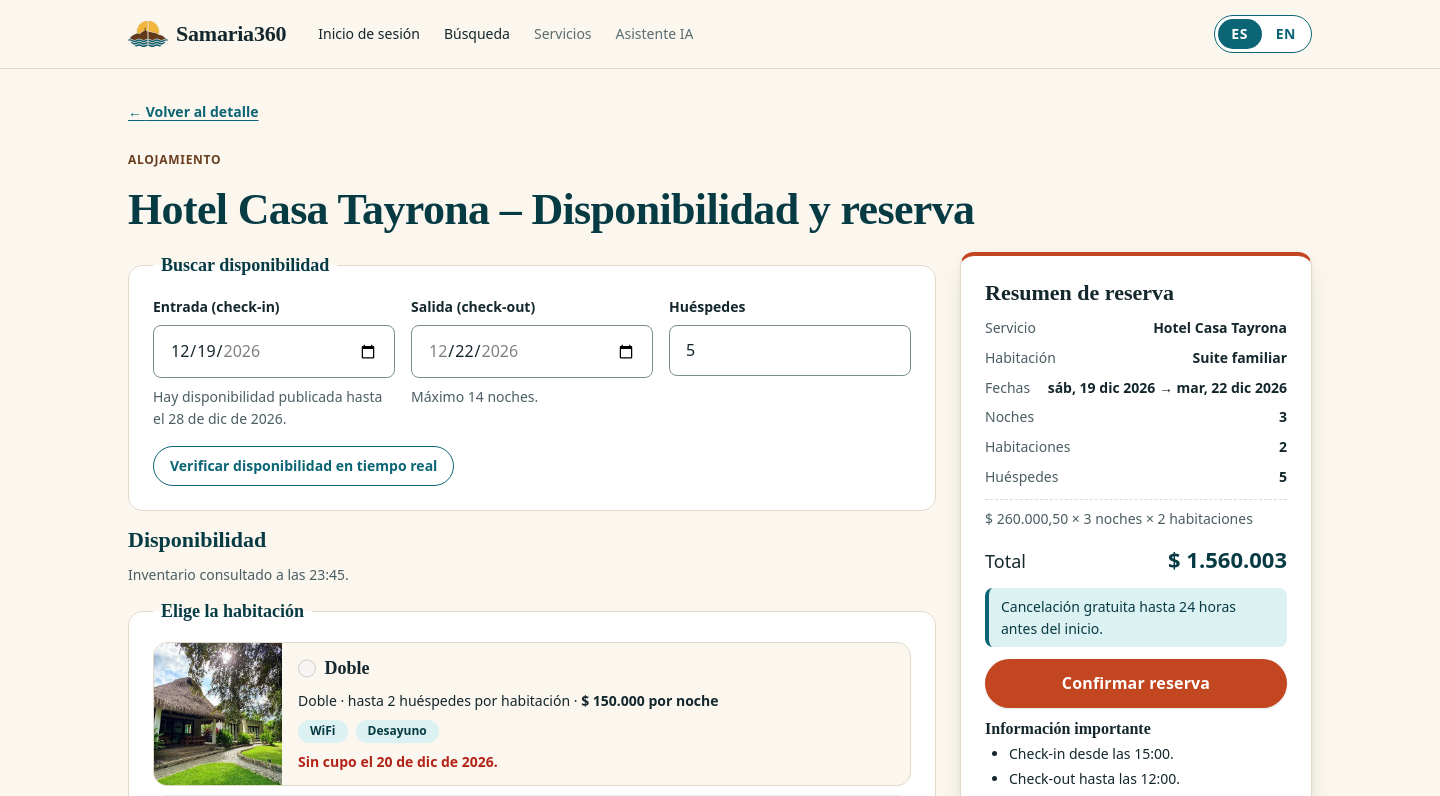
Test: WF-10, confirmar (RF20) con Idempotency-Key › sin sesión, «Confirmar» lleva al login y vuelve a WF-10 con la misma selección
The image size is (1440, 796).
Click the button "Confirmar reserva" at (1136, 684), box [985,660,1287,708]
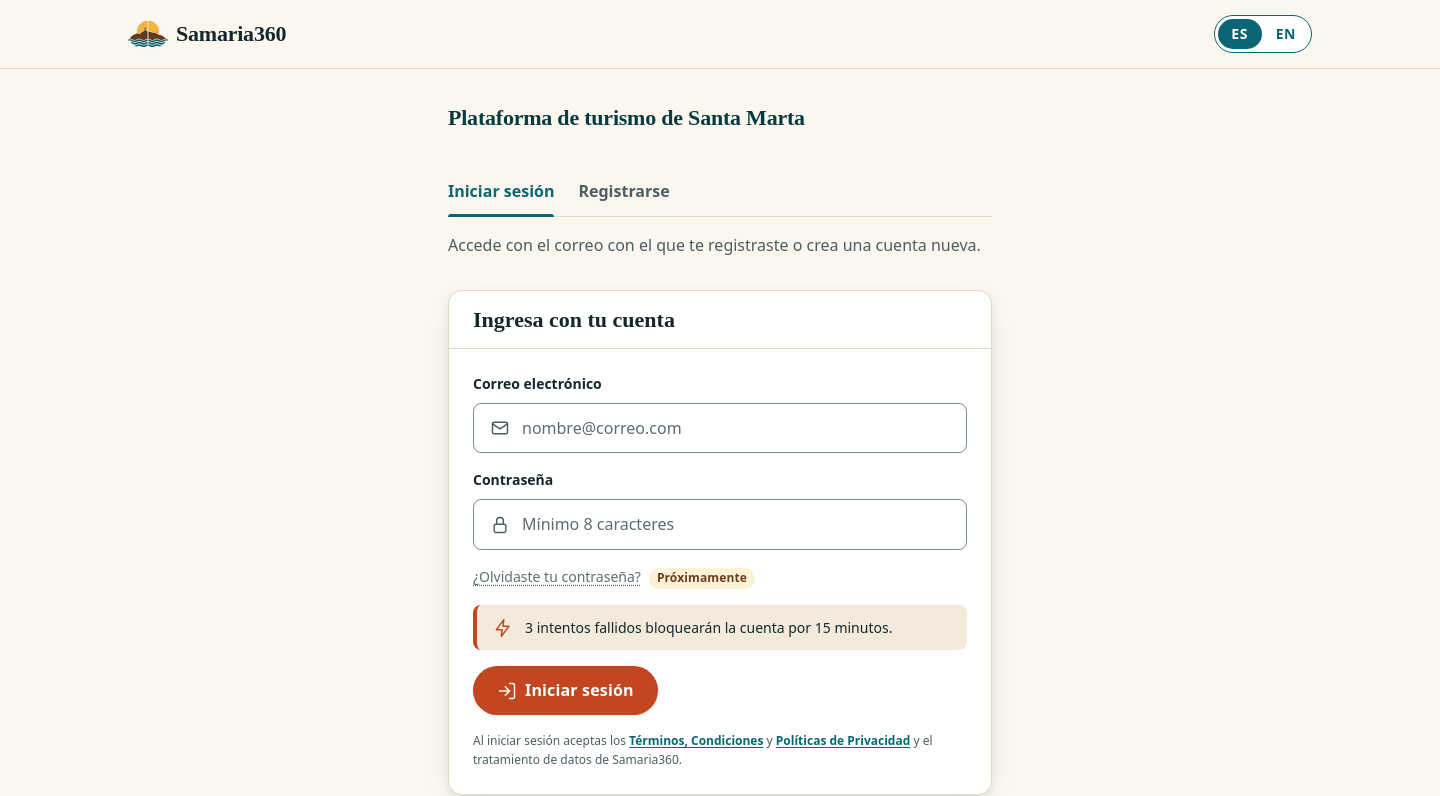
Type "turista@samaria360.test" into the field labelled "Correo electrónico" at (736, 428), box [522,404,950,452]
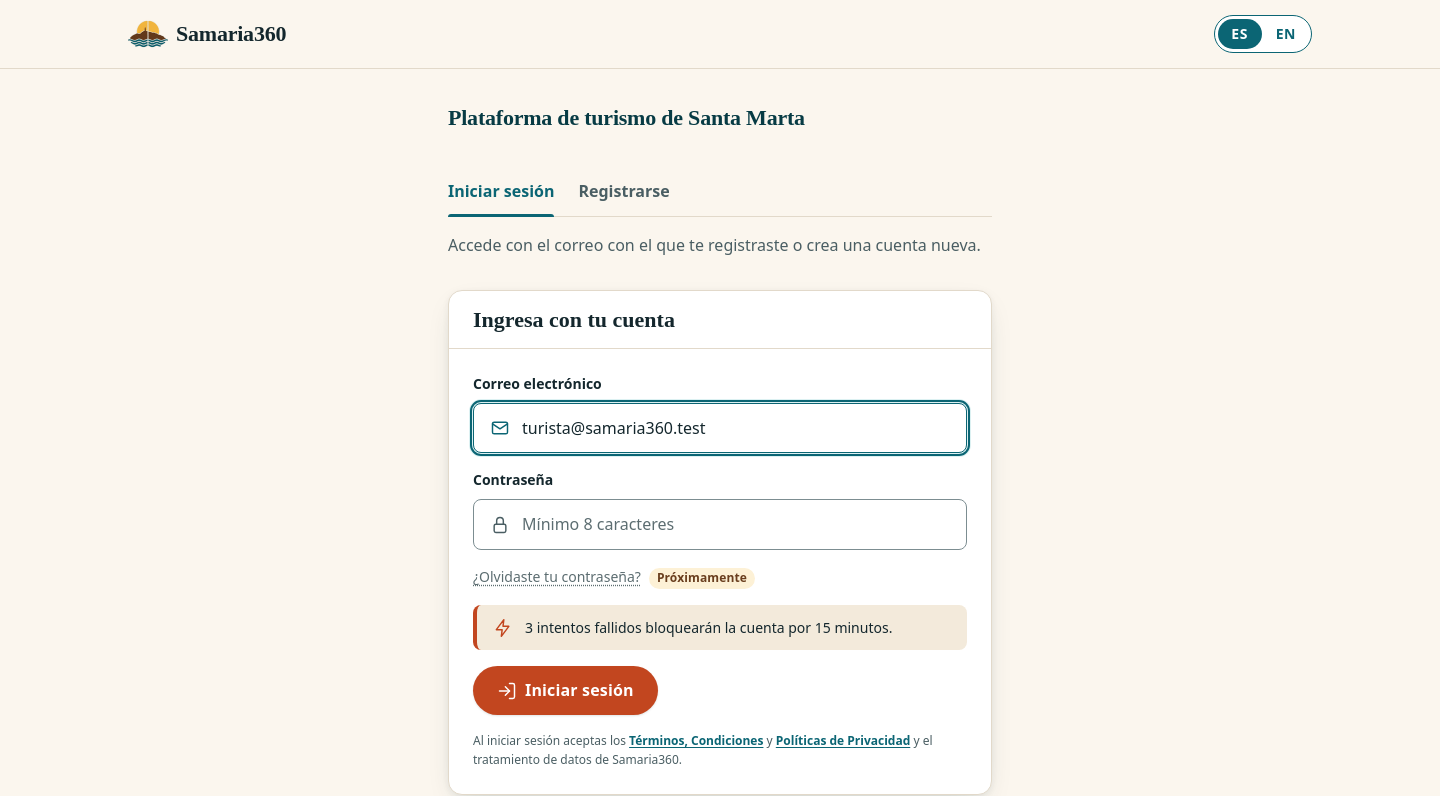
Type "Samaria360*" into the password field labelled "Contraseña" at (736, 525), box [522,500,950,549]
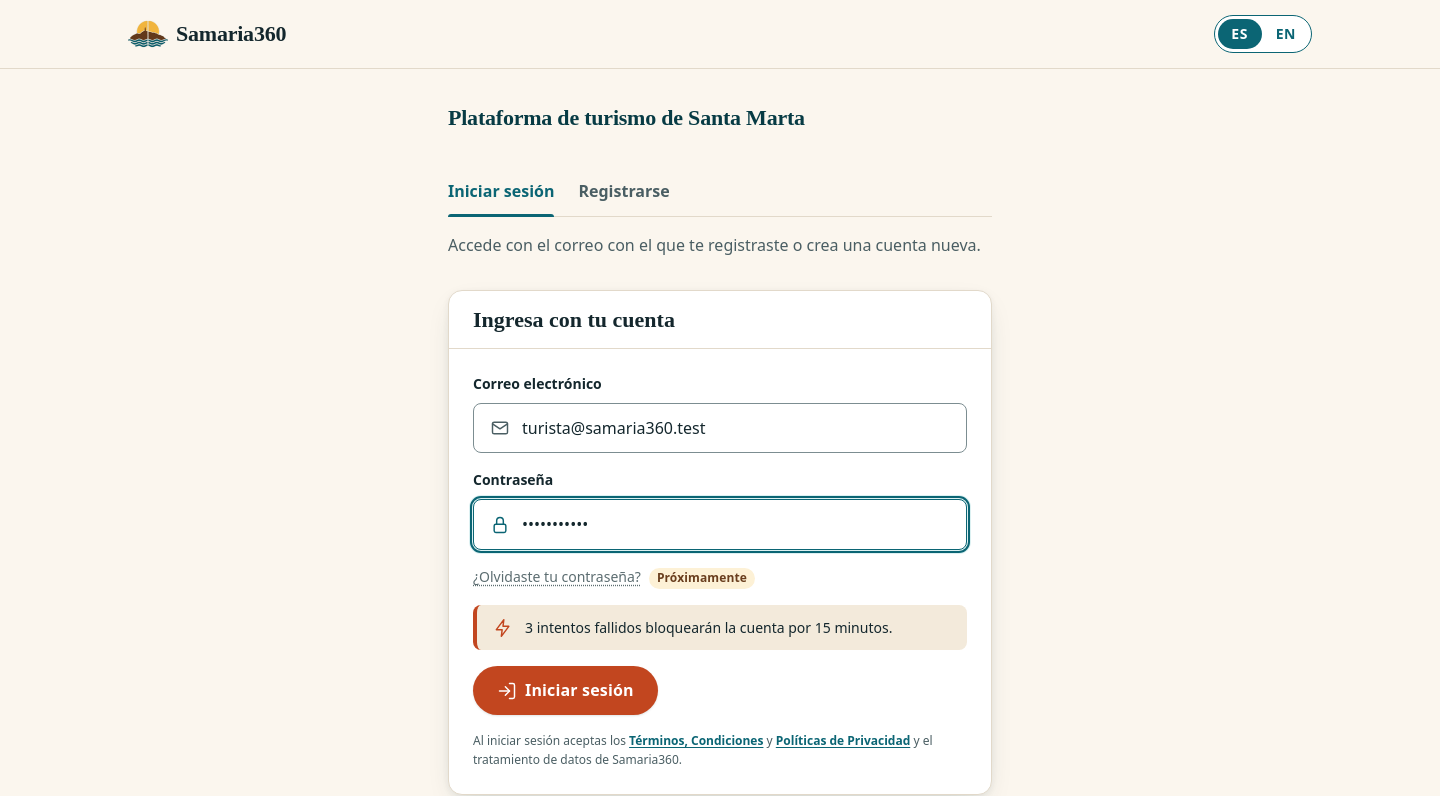
Click the button "Iniciar sesión" at (565, 691), box [473,666,658,715]
(page scrolled)
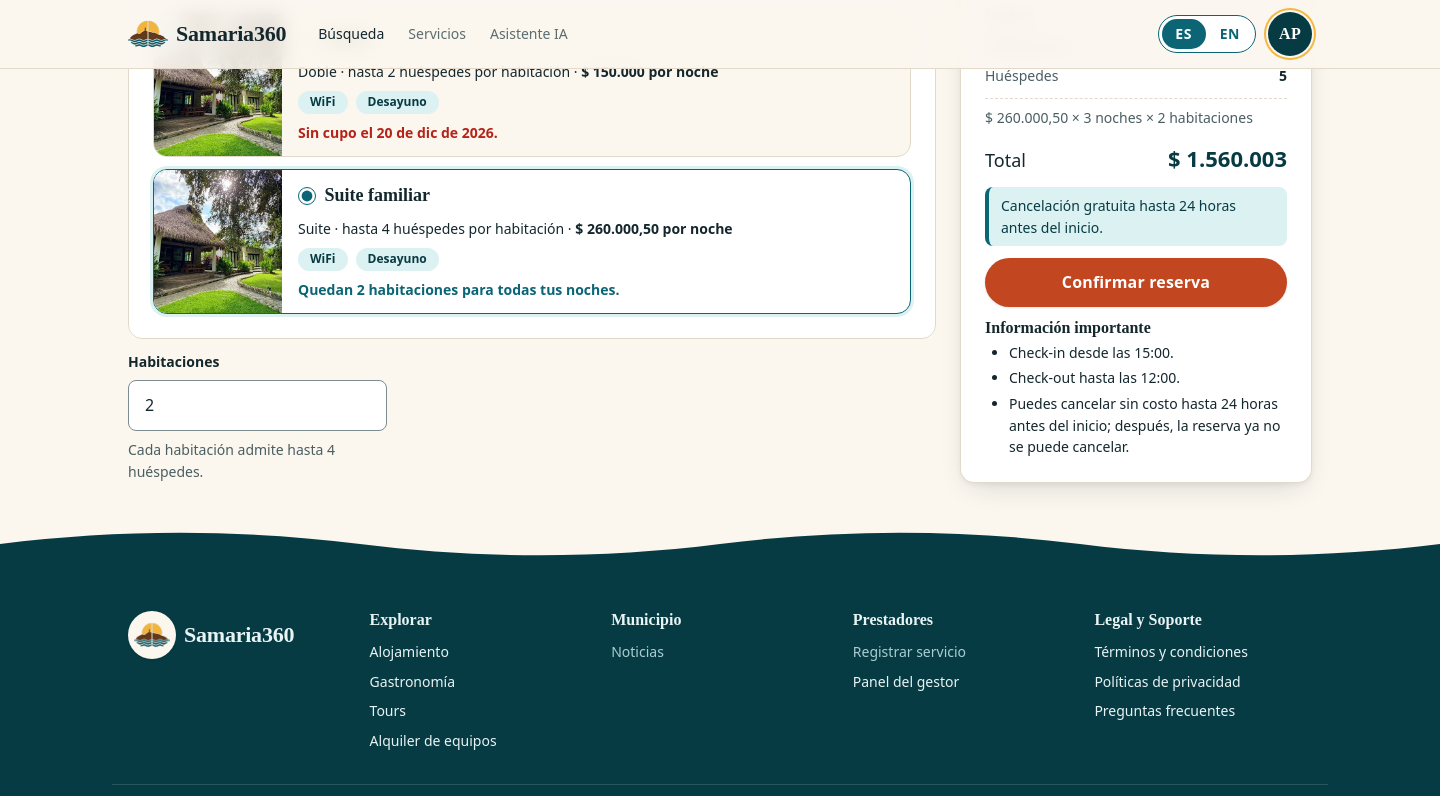
Check: the radio button labelled "Suite familiar" is checked, box [298,187,316,205]
Check: the number field labelled "Habitaciones" holds "2", box [145,382,370,430]
